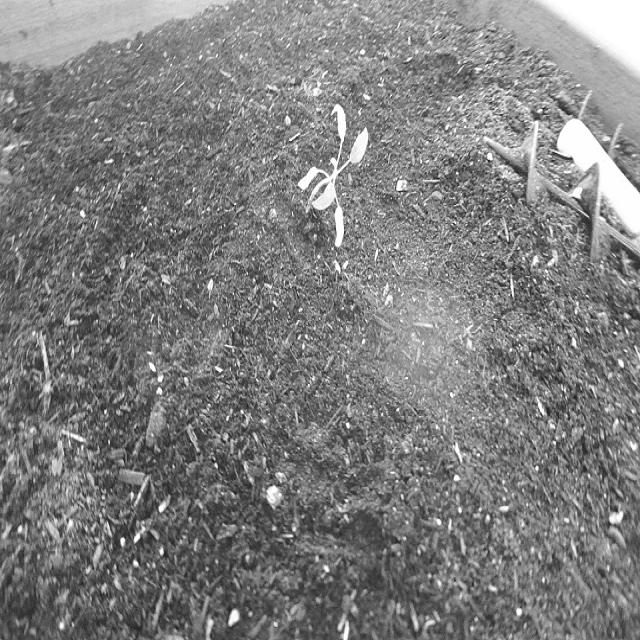Healthy: (297, 102, 370, 252)
